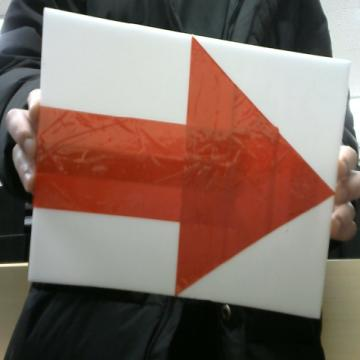red_right: (34, 38, 332, 294)
